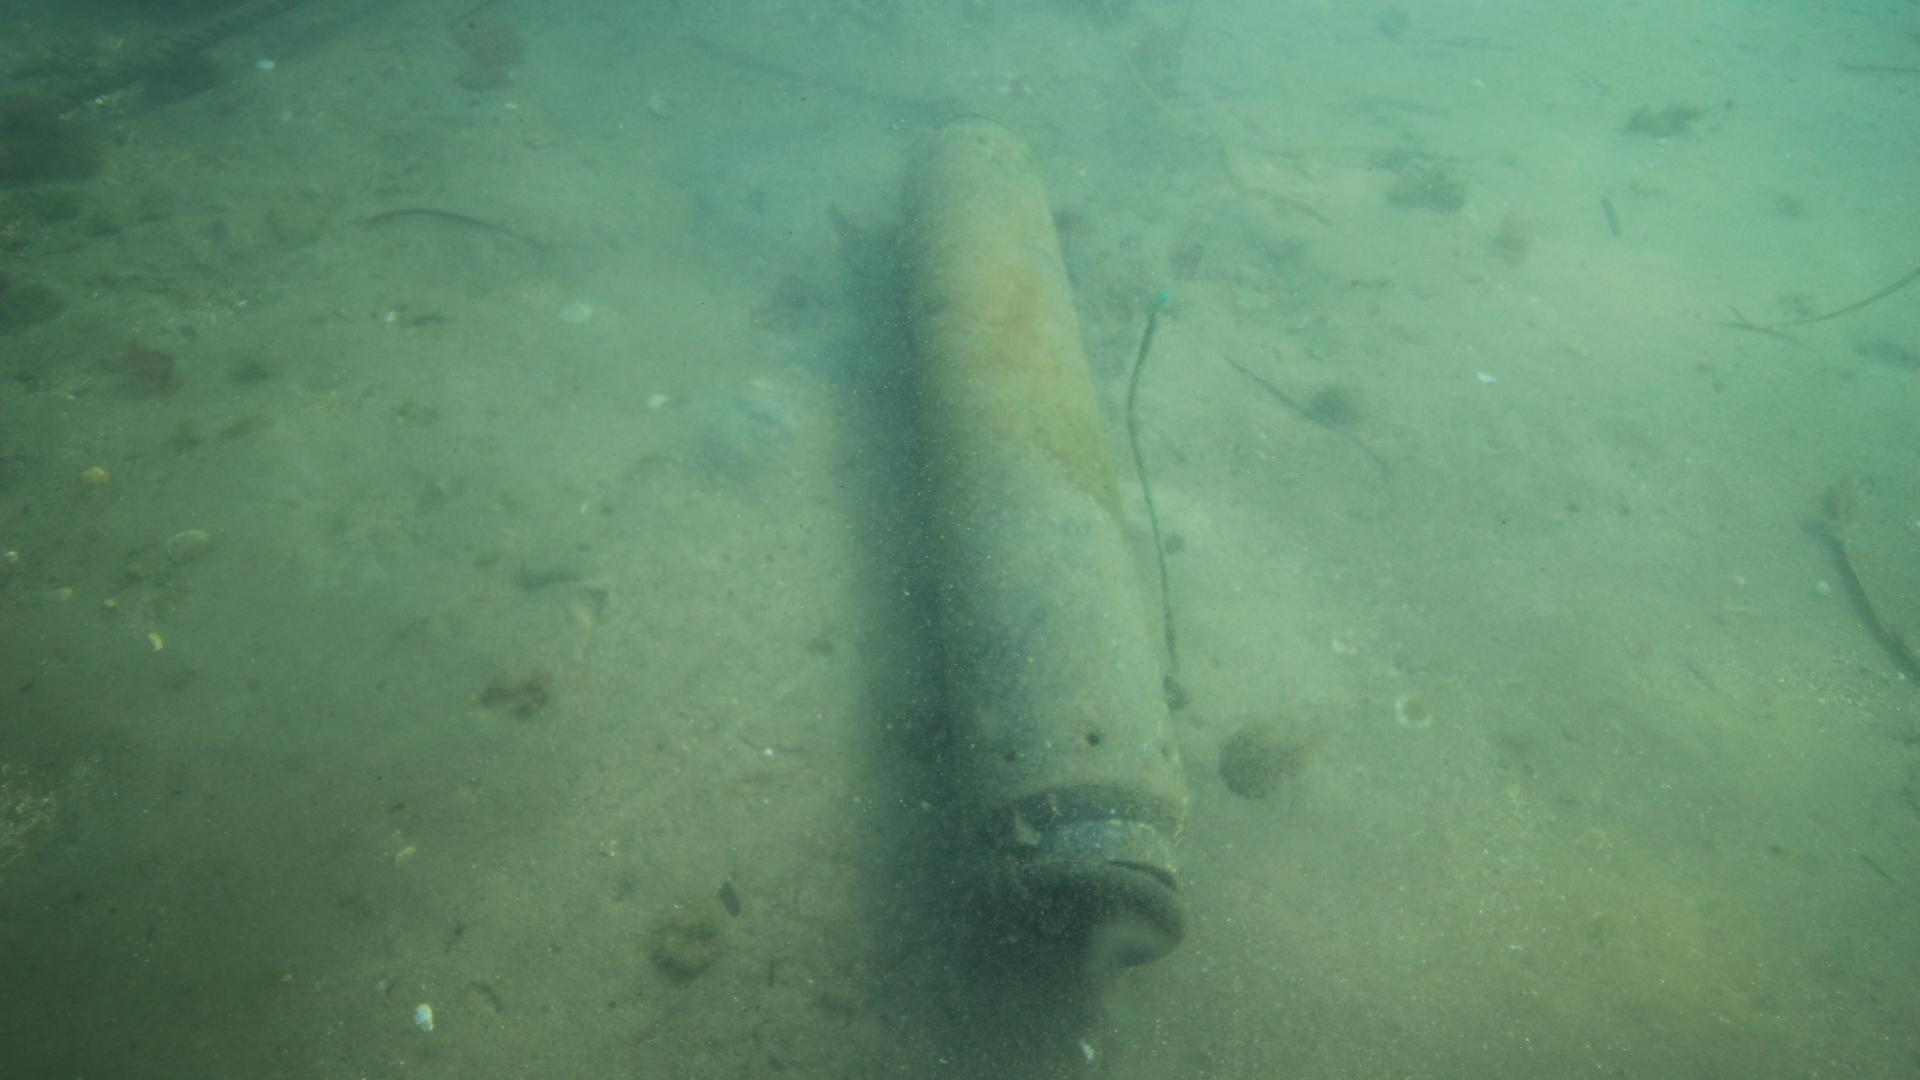eel fish trap: (901, 123, 1193, 973)
rope: (1120, 285, 1185, 704)
